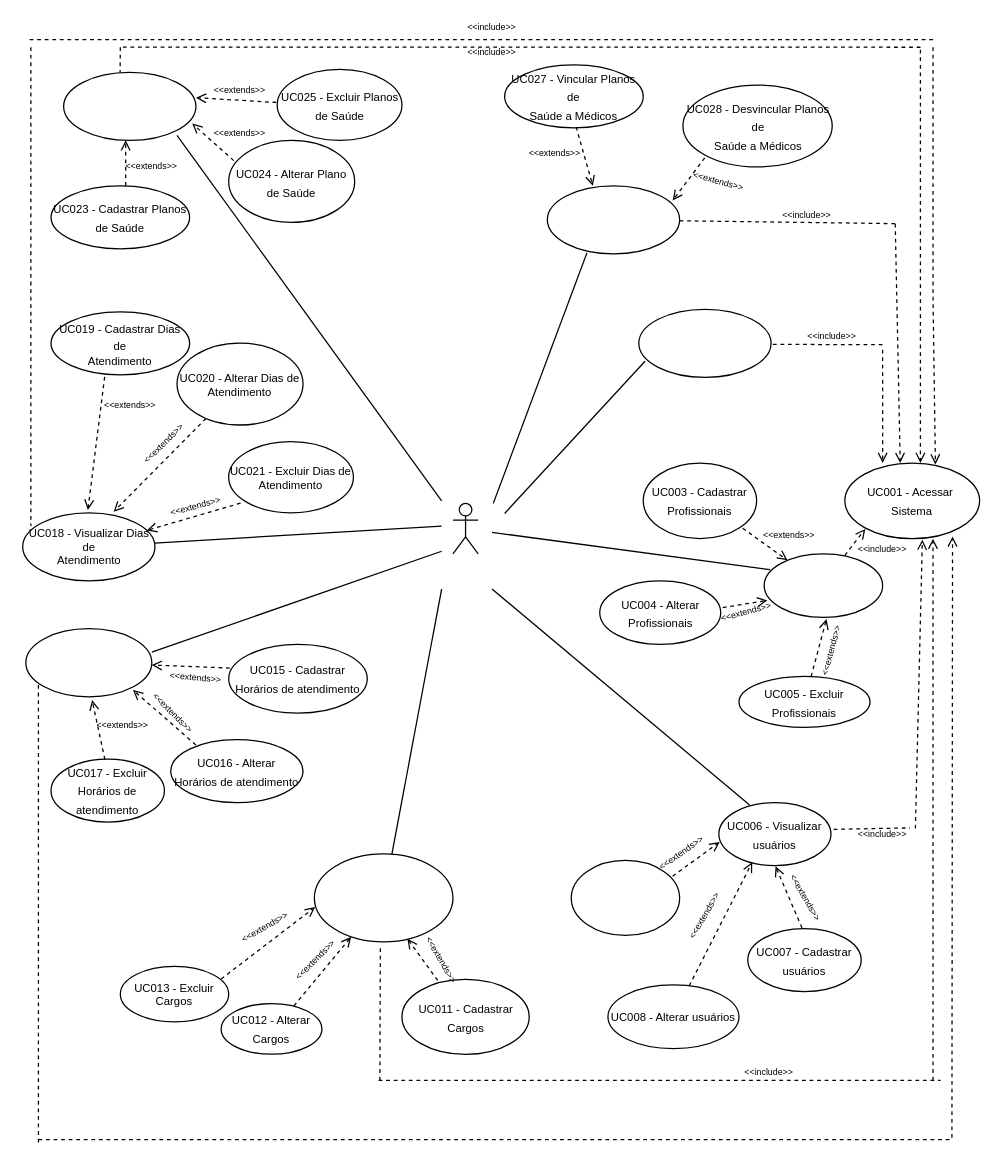
This 1002x1169 diagram has some shape labels left out. The shapes that lost their labels are listed below. From the top down, each one's box as (x1, y1, x2, y2) in pixels, then its label:
(62, 71, 196, 140): UC022 - Visualizar Planos de Saúde
(546, 185, 680, 254): UC026 - Visualizar Vínculos a Planos de Saúde
(638, 308, 771, 377): UC062 - Imprimir Relatórios
(452, 502, 478, 554): Administrador
(763, 553, 883, 617): UC002 - Visualizar Profissionais
(25, 627, 152, 697): UC014 - Visualizar Horários de atendimento
(313, 853, 453, 942): UC010 - Visualizar Cargos
(570, 859, 680, 935): UC009 - excluir usuários
